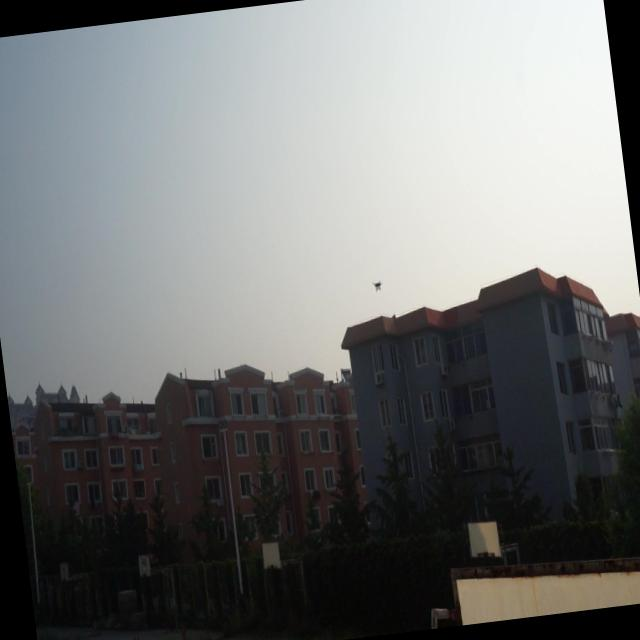drone: (370, 276, 384, 294)
